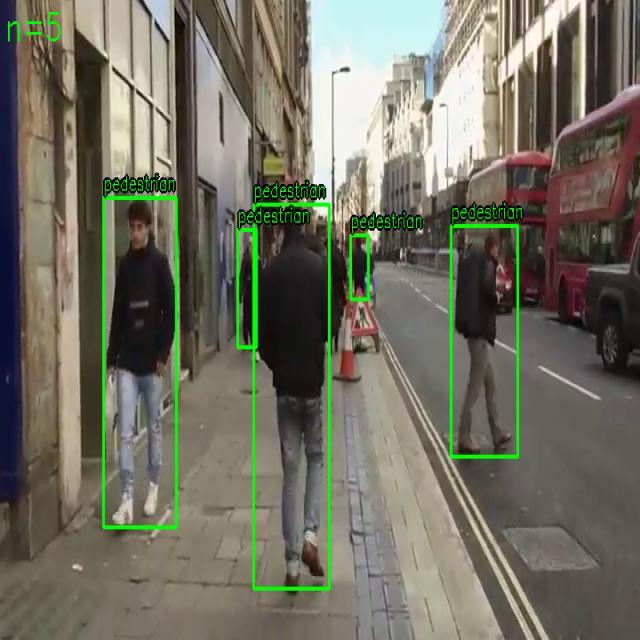with scooter: (253, 203, 330, 590), (103, 197, 177, 528), (451, 225, 518, 458), (237, 229, 257, 348), (351, 234, 368, 300)
